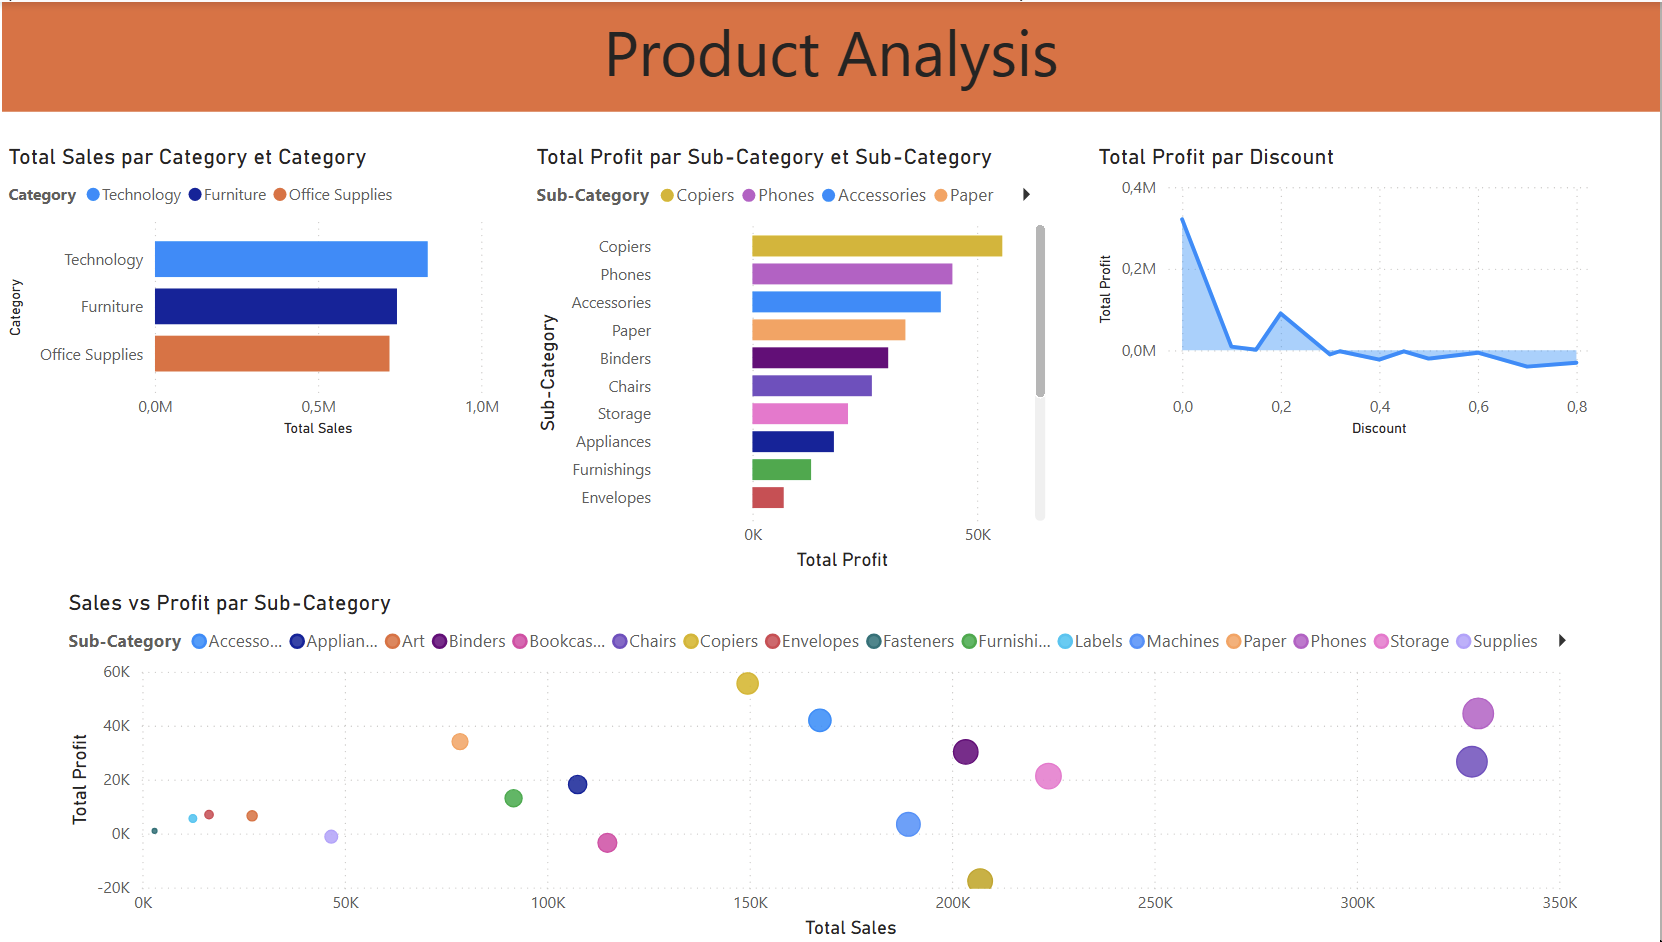

What the dashboard file says about the page in this screenshot:
{"tool":"powerbi","page":{"name":"Product Analysis","canvas":[1280,720],"ordinal":1},"visuals":[{"type":"textbox","box":[10.7,0,1269.3,84.2],"z":0},{"type":"barChart","fields":{"Category":["SampleSuperstore.Category"],"Y":["SampleSuperstore.Total Sales"],"Series":["SampleSuperstore.Category"]},"box":[10.7,108.7,385.8,228.1],"z":1000},{"type":"barChart","fields":{"Category":["SampleSuperstore.Sub-Category"],"Y":["SampleSuperstore.Total Profit"],"Series":["SampleSuperstore.Sub-Category"]},"box":[414.9,108.7,399.6,330.7],"z":2000},{"type":"stackedAreaChart","fields":{"Category":["SampleSuperstore.Discount"],"Y":["SampleSuperstore.Total Profit"]},"box":[845.2,108.7,385.8,228.1],"z":3000},{"type":"scatterChart","title":"Sales vs Profit par Sub-Category","fields":{"X":["SampleSuperstore.Total Sales"],"Y":["SampleSuperstore.Total Profit"],"Series":["SampleSuperstore.Sub-Category"],"Size":["SampleSuperstore.Total Sales"]},"box":[56.7,450.1,1165.2,271],"z":4000}]}

Visuals, with their boxes in screenshot pixels (x1, y1, x2, y2), scaled from the page's 1280x720 canvas onto the 1662x942 screenshot:
textbox: pyautogui.locateOnScreen(14, 0, 1661, 110)
barChart - SampleSuperstore.Category x SampleSuperstore.Total Sales: pyautogui.locateOnScreen(14, 142, 515, 441)
barChart - SampleSuperstore.Sub-Category x SampleSuperstore.Total Profit: pyautogui.locateOnScreen(539, 142, 1058, 575)
stackedAreaChart - SampleSuperstore.Discount x SampleSuperstore.Total Profit: pyautogui.locateOnScreen(1097, 142, 1598, 441)
"Sales vs Profit par Sub-Category" scatterChart: pyautogui.locateOnScreen(74, 589, 1587, 941)
